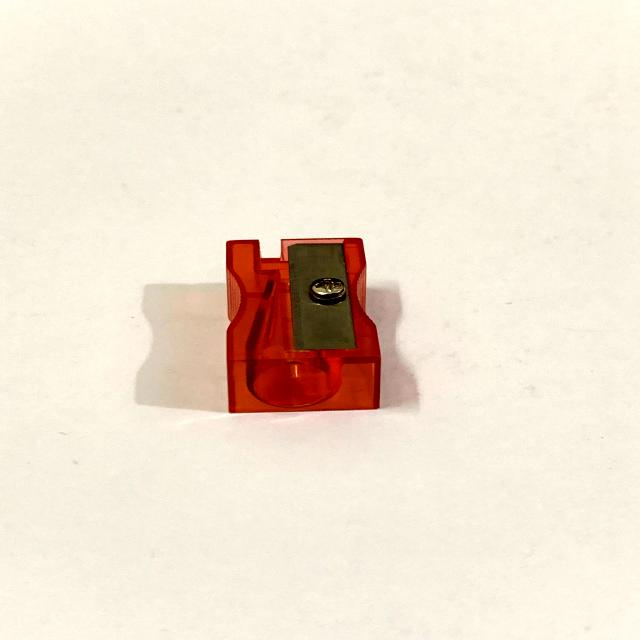Sharpner: (184, 213, 414, 430)
